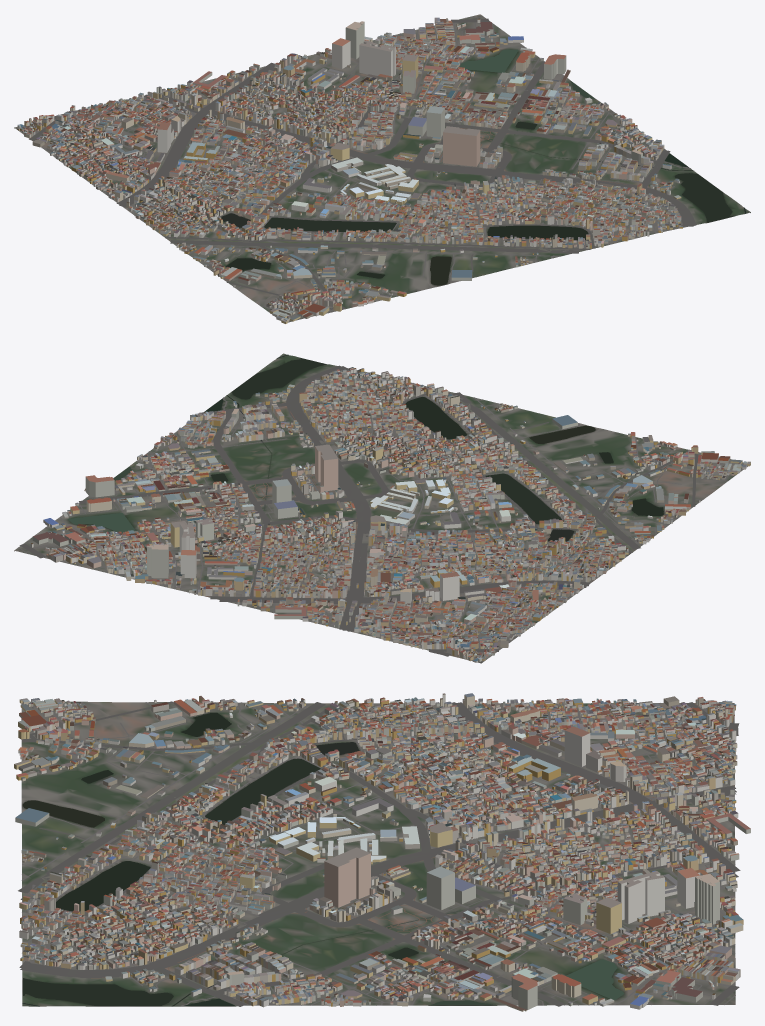
The picture shows the model from 3 angles, top to bottom: view 1: azimuth 30°, elevation 25°; view 2: azimuth 150°, elevation 25°; view 3: azimuth 270°, elevation 25°; orthographic projection. The views are drawn at different scales.
Visible parts, largest first — view 1: buildings, ground, roads, water; view 2: buildings, ground, roads, water; view 3: buildings, ground, roads, water.
Part boxes in pixels (<box>): buildings: <box>17,17,682,323</box>; ground: <box>14,14,750,322</box>; roads: <box>23,17,696,320</box>; water: <box>221,49,746,285</box>; buildings: <box>30,367,750,662</box>; ground: <box>14,353,750,663</box>; roads: <box>18,365,743,661</box>; water: <box>67,354,663,541</box>; buildings: <box>14,693,750,1011</box>; ground: <box>21,701,735,1006</box>; roads: <box>18,701,740,1006</box>; water: <box>22,712,624,1006</box>.
Bounding box in the file's own units: 1441 × 94.87 × 1449.
